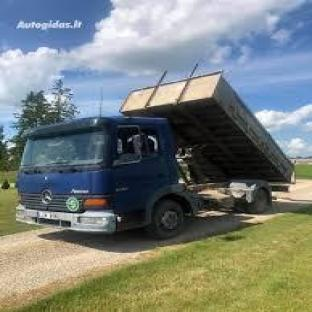Vehicle: (13, 74, 305, 229)
